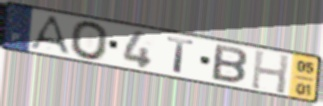4: (121, 29, 154, 70)
A: (27, 14, 73, 57)
B: (209, 42, 249, 86)
H: (249, 48, 292, 96)
O: (69, 20, 111, 62)
T: (165, 35, 196, 75)
